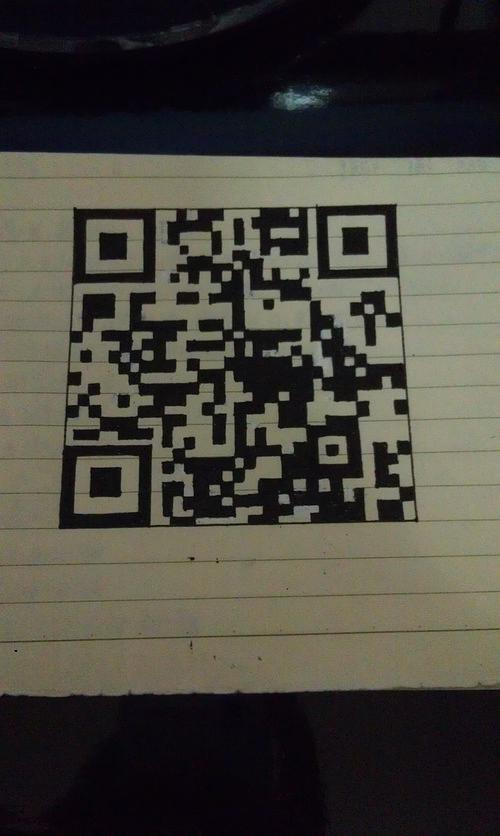QRCode: (55, 201, 425, 533)
